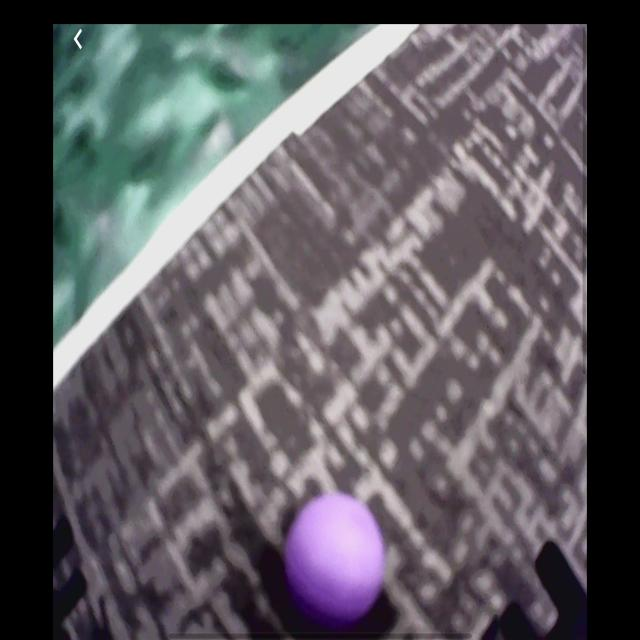ball: (287, 493, 389, 624)
